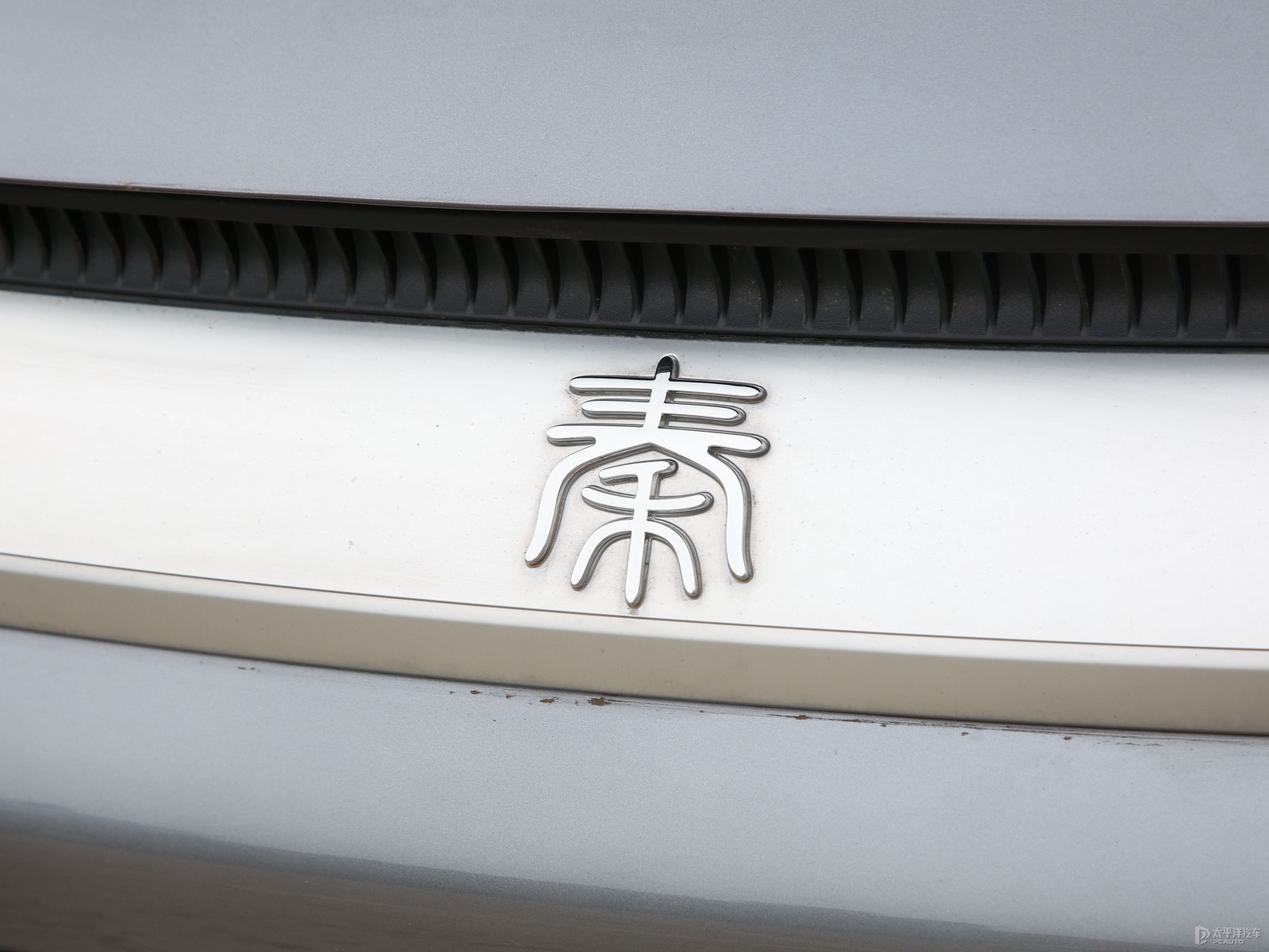BYD Qin: (524, 356, 770, 606)
